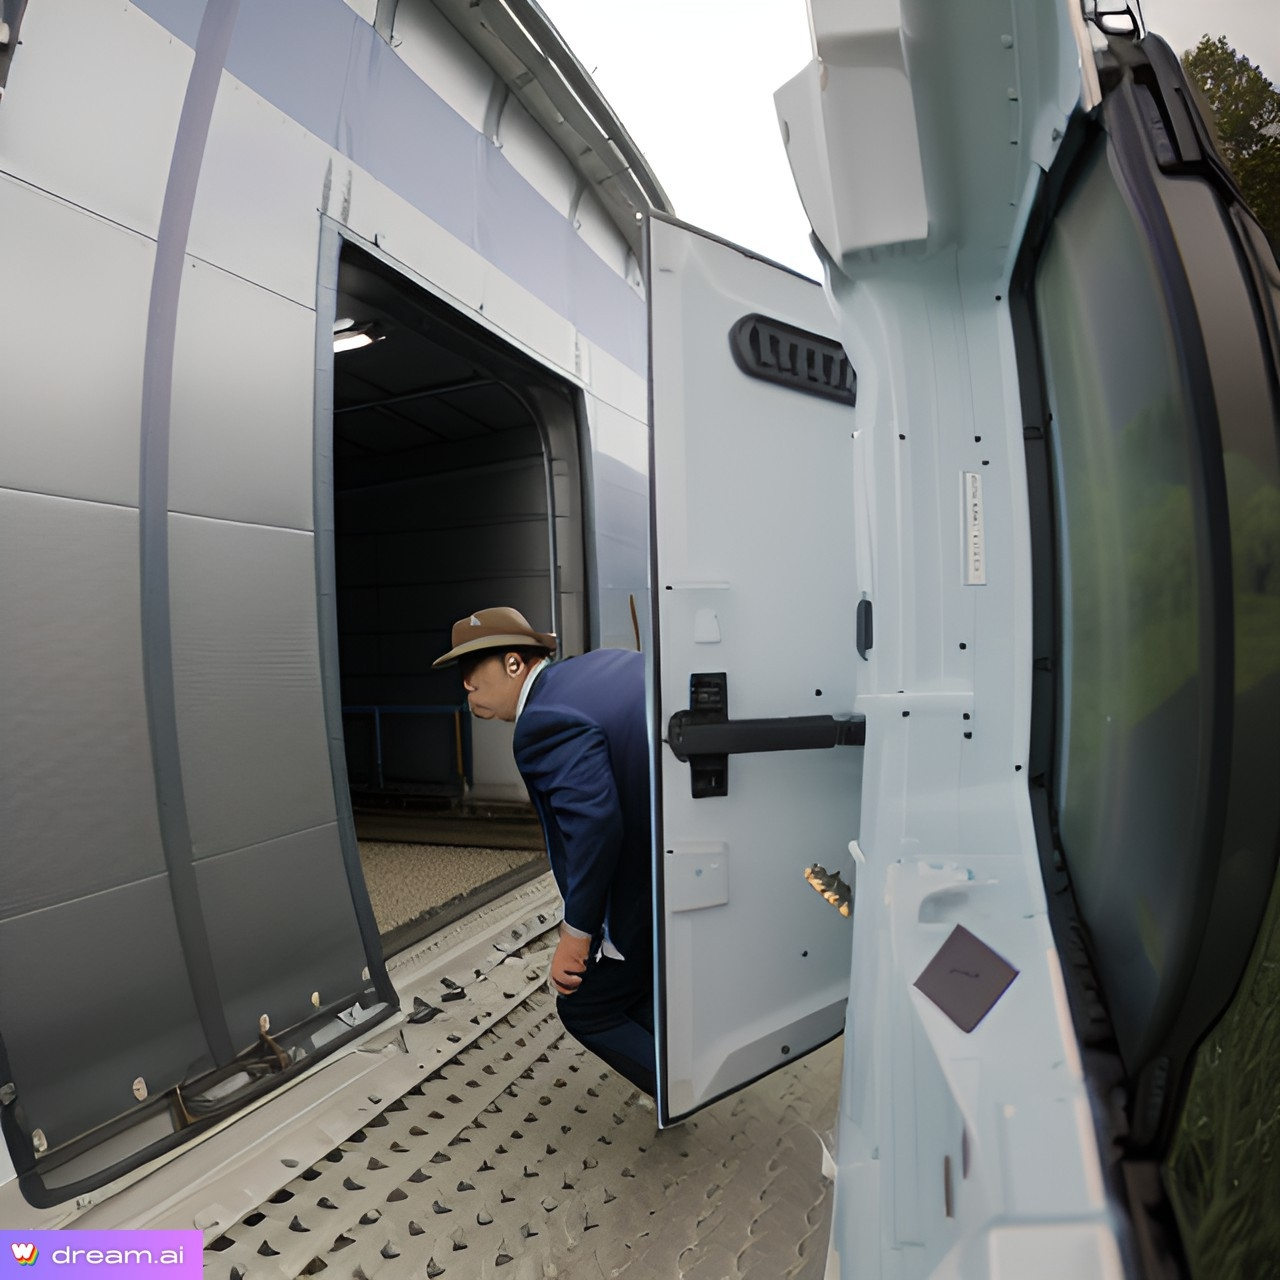door_front: (627, 189, 900, 1149)
